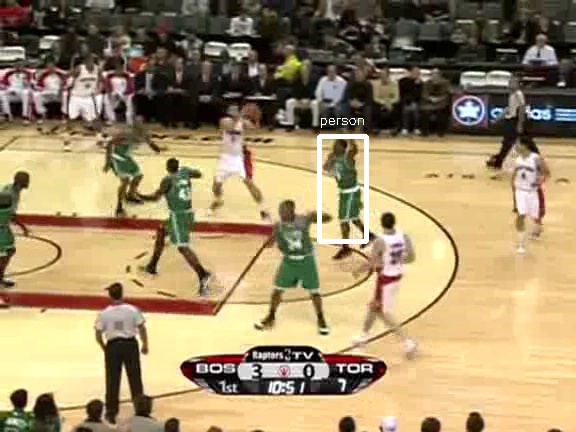person: (330, 146, 364, 227), (329, 146, 363, 227), (331, 146, 365, 227), (330, 145, 364, 226), (330, 147, 364, 228)
target_negative: (250, 174, 481, 349), (54, 240, 510, 317), (127, 306, 264, 422), (364, 109, 425, 352), (206, 53, 227, 296), (219, 420, 342, 427)
